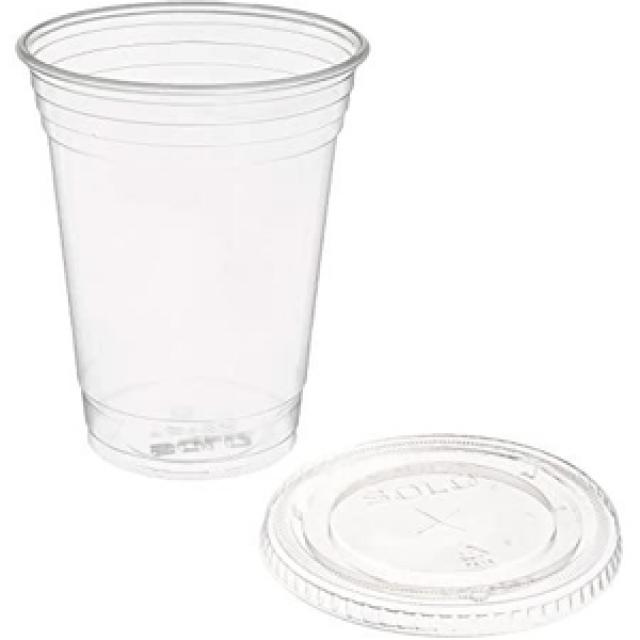plastic cup: (11, 2, 380, 484)
